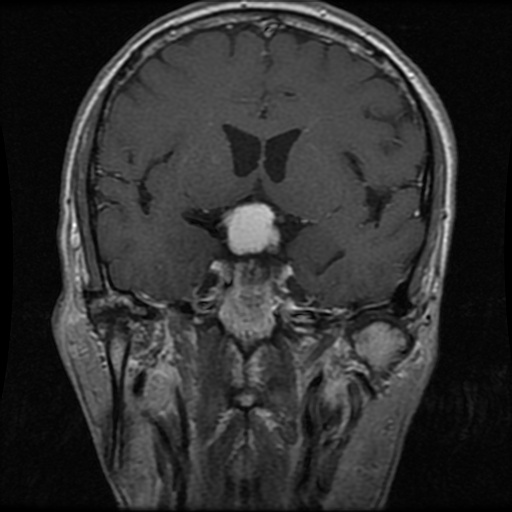meningioma: (225, 201, 281, 255)
